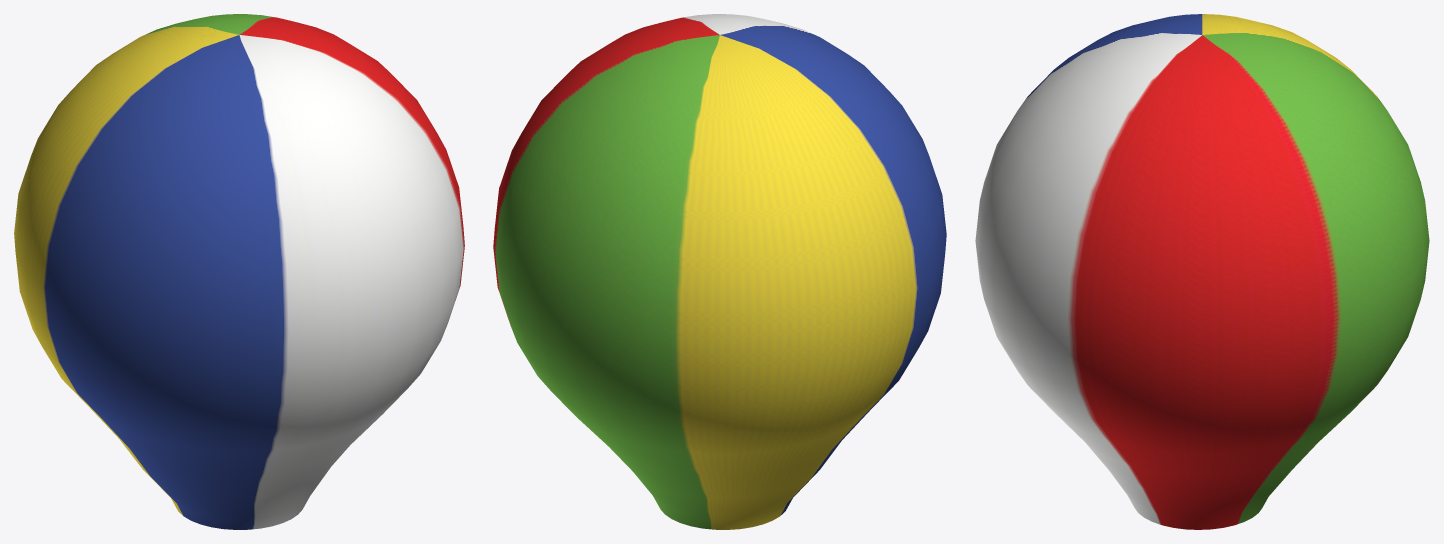
Rendered from balloon_model.glb.
3 renders of one model, left to right at view 1: azimuth 30°, elevation 25°; view 2: azimuth 150°, elevation 25°; view 3: azimuth 270°, elevation 25°, orthographic.
Parts seen in each view (by area): view 1: Sphere; view 2: Sphere; view 3: Sphere.
Boxes of the visible parts, bbox=[...] form: Sphere: bbox=[14, 14, 464, 529]; Sphere: bbox=[493, 14, 946, 529]; Sphere: bbox=[975, 14, 1429, 529].
Size of the model in its own units: 2 by 2.28 by 2.
Materials: 1 (1 with a texture image).
